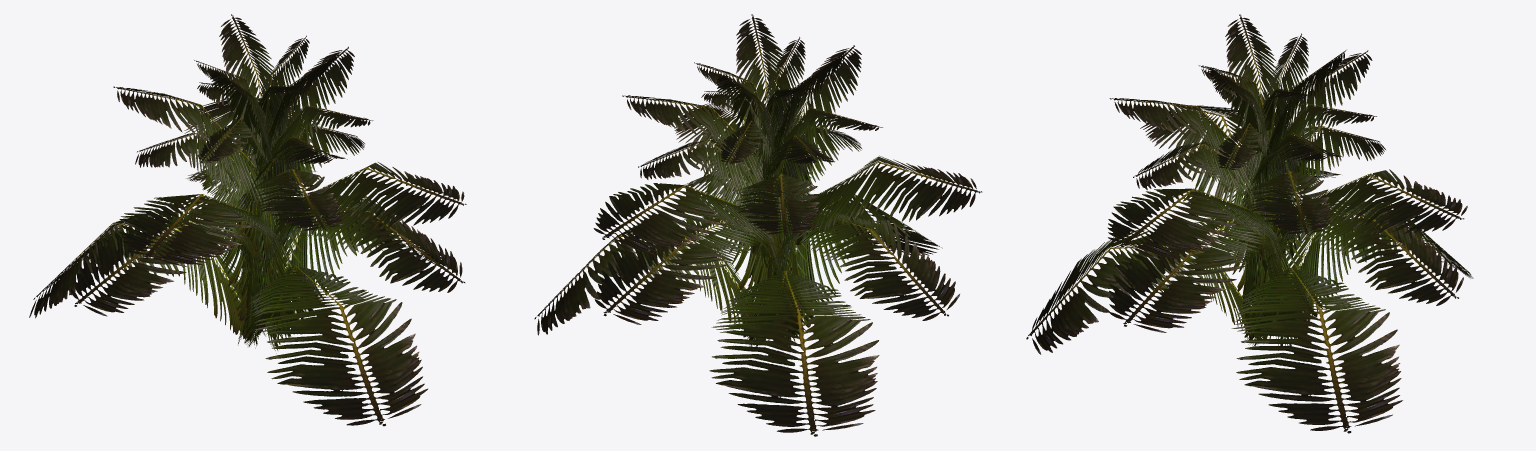
Rendered from shrub.obj.
3 views of the same model, side by side, from view 1: azimuth 30°, elevation 25°; view 2: azimuth 150°, elevation 25°; view 3: azimuth 270°, elevation 25° (orthographic).
Visible parts, largest first — view 1: Shrub; view 2: Shrub; view 3: Shrub.
Boxes of the visible parts, box(x1,y1,x2,y2) form: Shrub: box(29, 14, 466, 426); Shrub: box(534, 14, 982, 436); Shrub: box(1026, 14, 1473, 433).
Bounding box in the file's own units: 60.81 × 43.53 × 61.52.
1 material, 1 textured.
